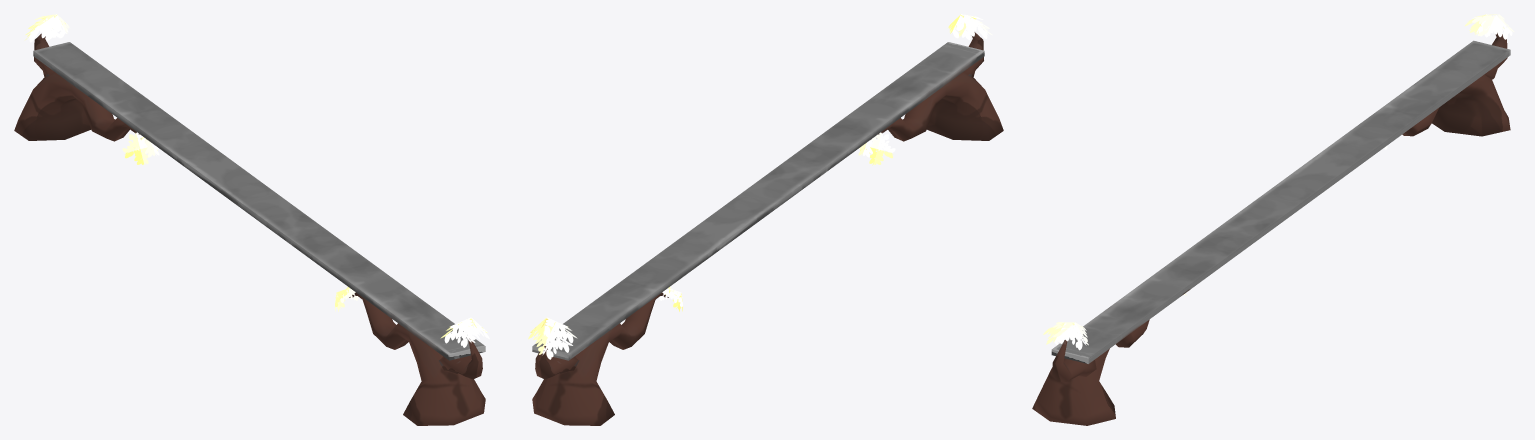
The model's file is amazoncafe_mesa_janela.glb.
3 views of the same model, side by side, from view 1: azimuth 30°, elevation 25°; view 2: azimuth 150°, elevation 25°; view 3: azimuth 330°, elevation 25° (orthographic).
Parts seen in each view (by area): view 1: mesao, Plane.003, Plane.001, Plane.005; view 2: mesao, Plane.003, Plane.001, Plane.008, Plane.002; view 3: mesao, Plane.003, Plane.001.
Part boxes in pixels (box(x1,y1,x2,y2)): mesao: box(14, 33, 485, 425); Plane.003: box(34, 14, 489, 339); Plane.001: box(25, 18, 475, 347); Plane.005: box(122, 132, 157, 165); mesao: box(532, 32, 1003, 425); Plane.003: box(528, 14, 983, 339); Plane.001: box(542, 18, 992, 347); Plane.008: box(860, 132, 895, 165); Plane.002: box(533, 331, 572, 359); mesao: box(1032, 33, 1510, 425); Plane.003: box(1052, 14, 1514, 350); Plane.001: box(1043, 14, 1504, 344).
Bounding box in the file's own units: 1.64 × 2.1 × 16.71.
3 materials, 3 textured.
